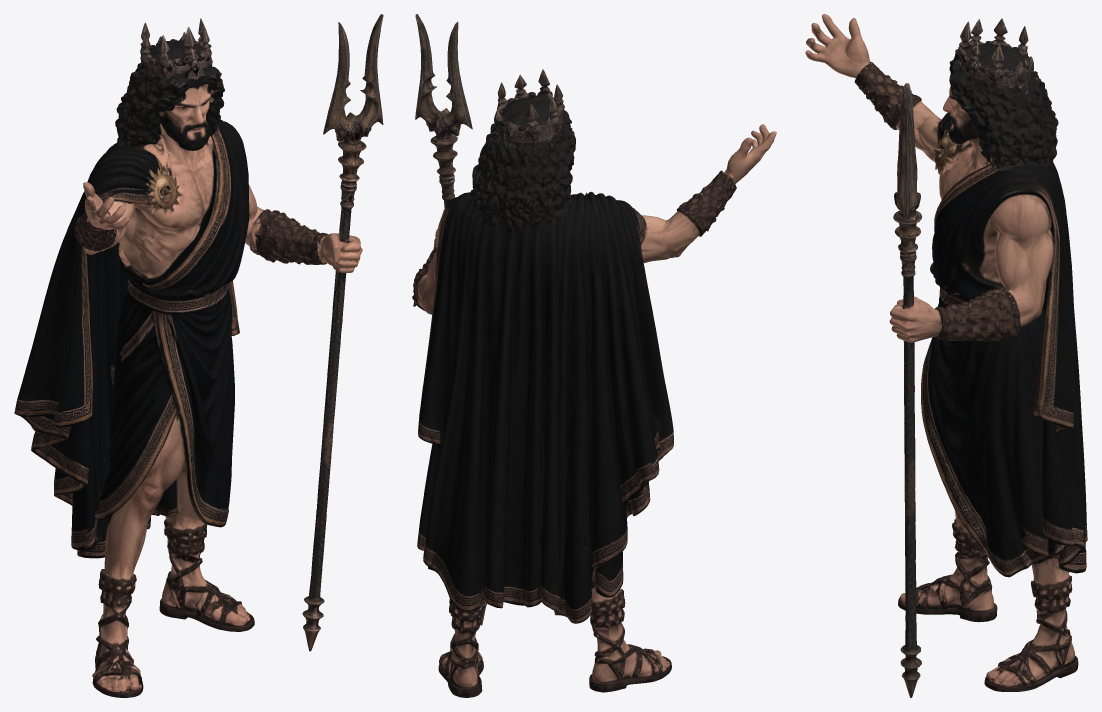
Rendered from hades2.glb.
3 views of the same model, side by side, from view 1: azimuth 30°, elevation 25°; view 2: azimuth 150°, elevation 25°; view 3: azimuth 270°, elevation 25° (orthographic). The views are drawn at different scales.
Size of the model in its own units: 1.04 by 1.84 by 0.7461.
Materials: 1 (1 with a texture image).
